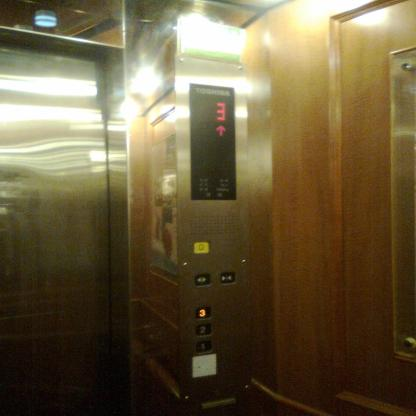1: (195, 339, 213, 353)
2: (194, 322, 212, 337)
3: (194, 306, 212, 320)
alarm: (192, 240, 210, 254)
close: (218, 271, 235, 285)
led: (187, 81, 238, 202)
open: (194, 273, 211, 287)
